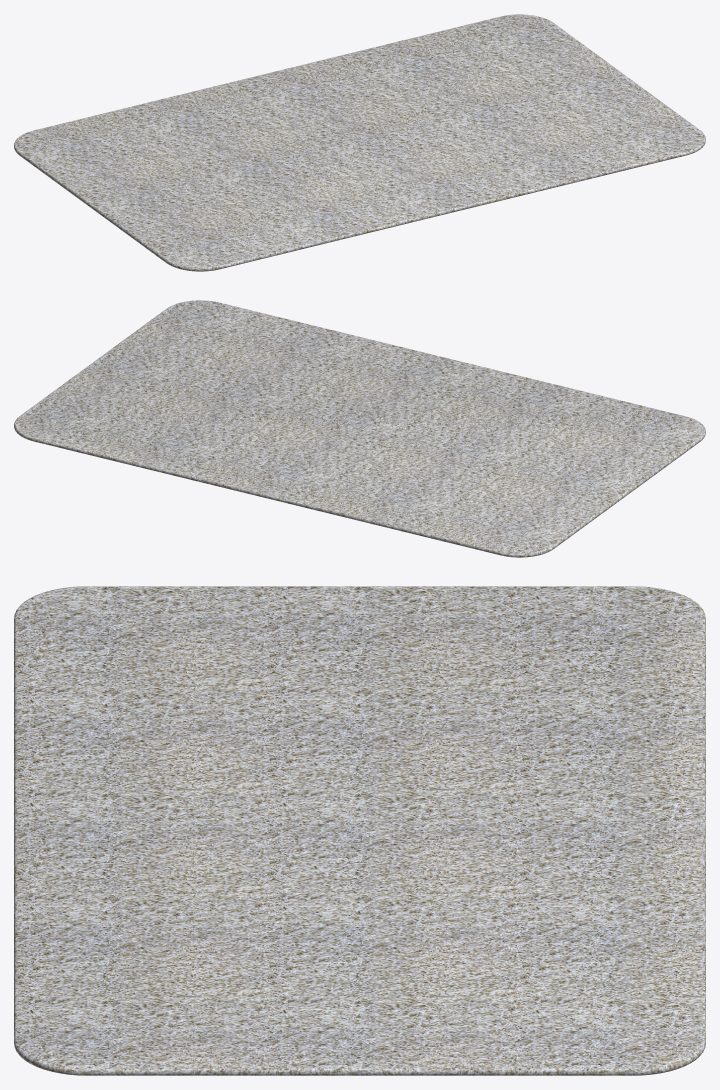
File: carpet.dae
3 renders of one model, top to bottom at view 1: azimuth 30°, elevation 25°; view 2: azimuth 150°, elevation 25°; view 3: azimuth 270°, elevation 25°, orthographic. The views are drawn at different scales.
Parts seen in each view (by area): view 1: Cube; view 2: Cube; view 3: Cube.
Boxes of the visible parts, x1=… form: Cube: x1=14, y1=14, x2=705, y2=271; Cube: x1=14, y1=300, x2=705, y2=557; Cube: x1=14, y1=586, x2=705, y2=1075.
Size of the model in its own units: 131 by 78.74 by 0.8895.
Materials: 1 (1 with a texture image).
